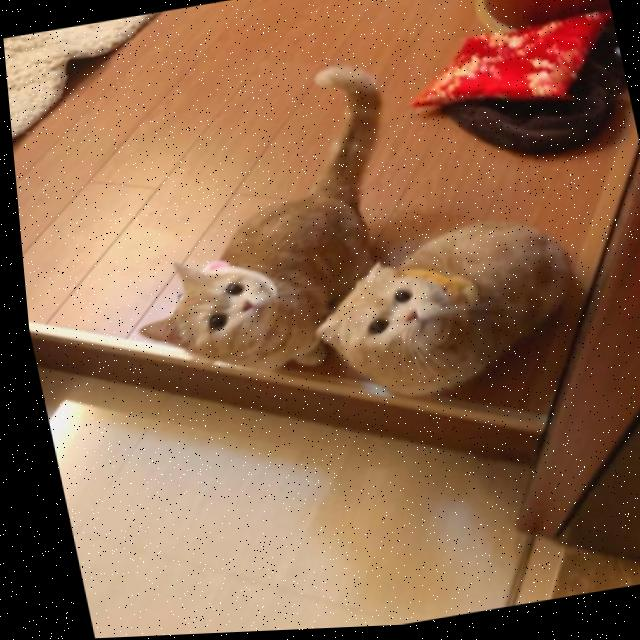Cats: (115, 165, 380, 397), (289, 219, 586, 410)
